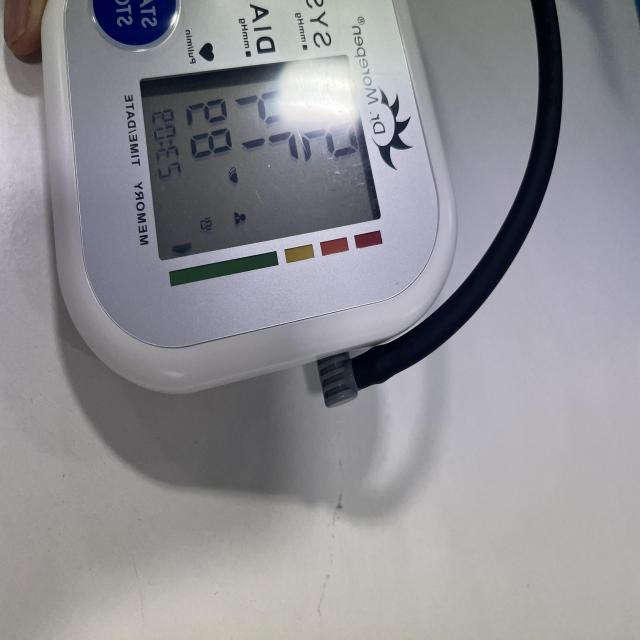bp: (36, 0, 459, 396)
